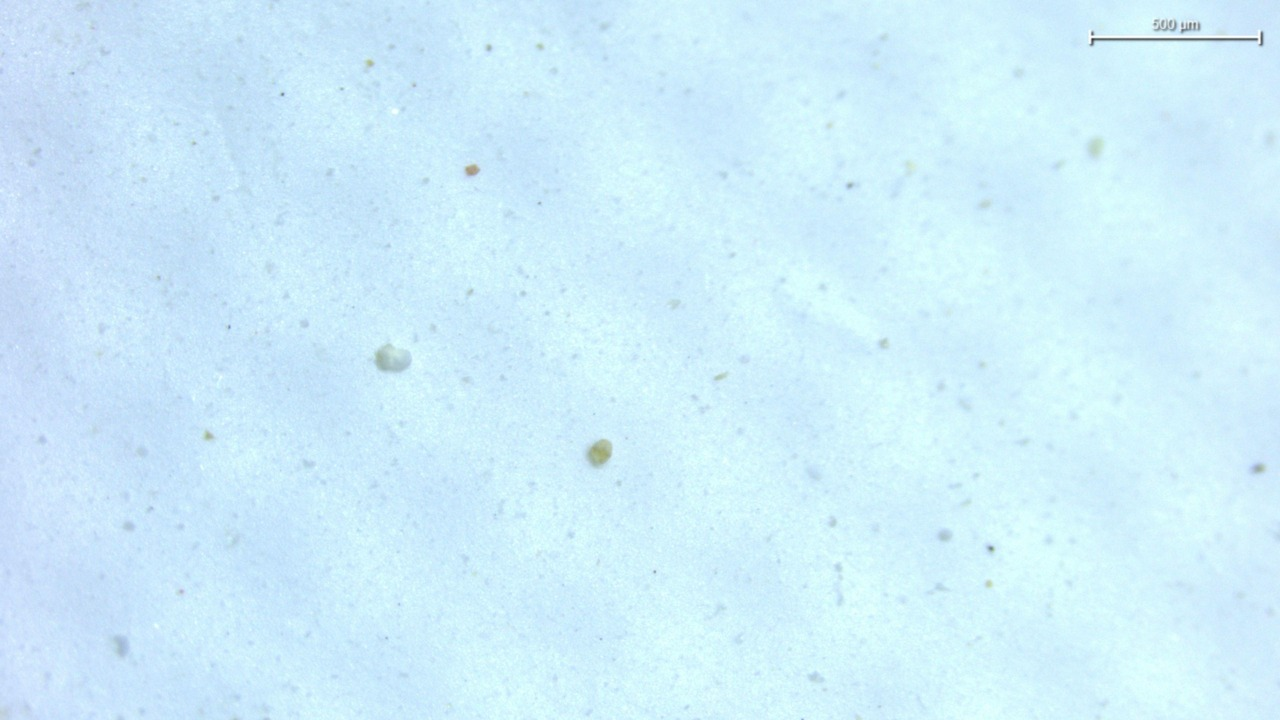microplastic_fragment: (375, 344, 412, 371), (587, 439, 612, 467)
